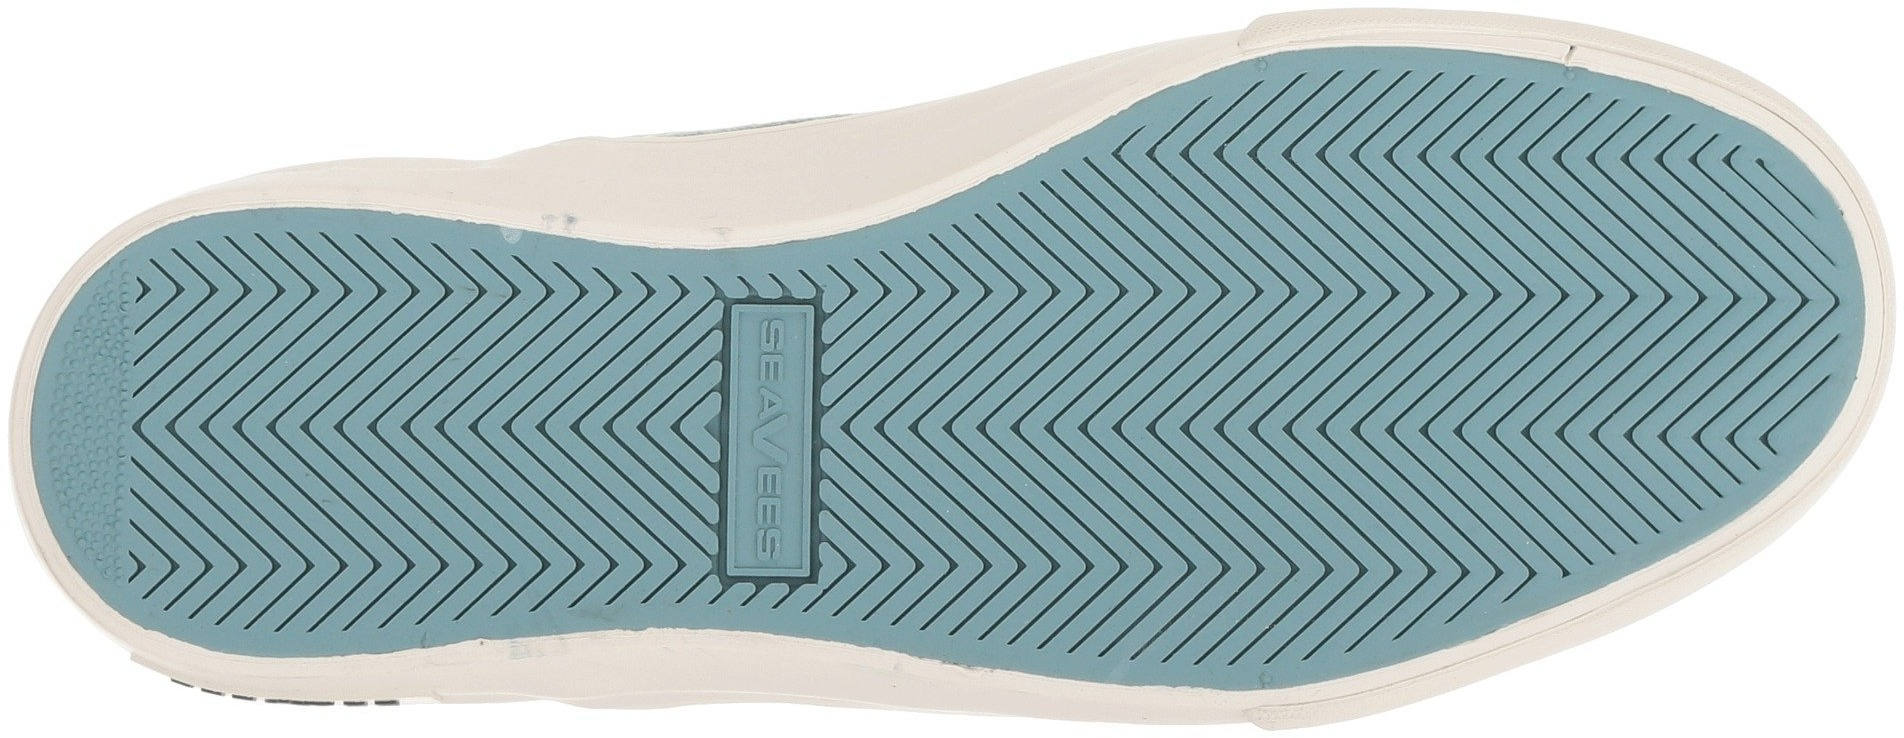chevron: (1460, 134, 1784, 449), (810, 257, 1130, 569), (1134, 123, 1456, 425), (135, 257, 398, 486), (1141, 428, 1383, 655), (408, 257, 612, 445), (406, 452, 576, 608), (1409, 461, 1562, 604), (200, 492, 358, 630), (620, 405, 725, 511)
text: (729, 482, 812, 563), (739, 388, 810, 471), (742, 318, 810, 381)
